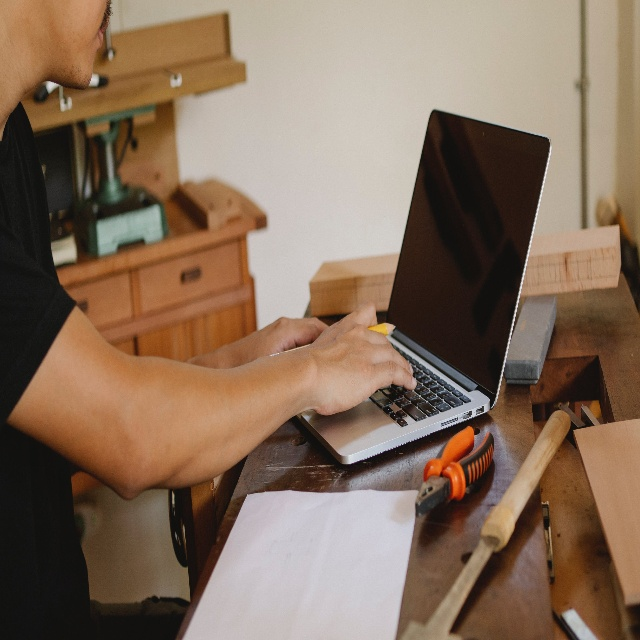Sin_guantes: (308, 301, 418, 417), (232, 315, 328, 369)
